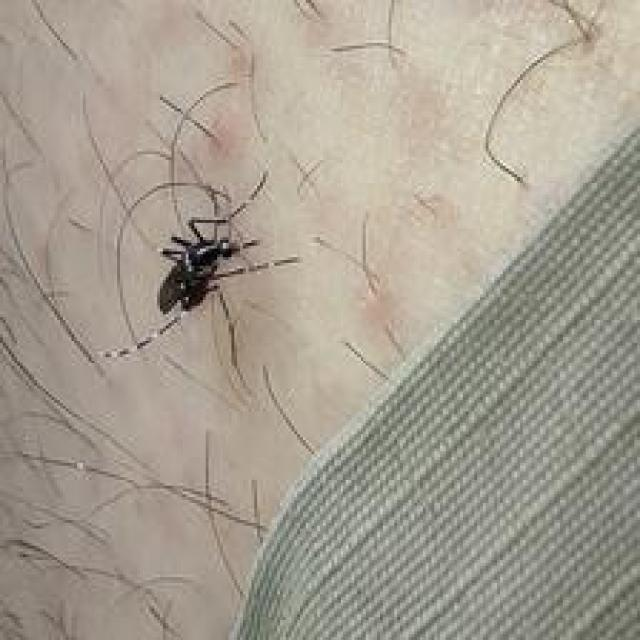Aedes albopictus: (154, 210, 300, 319)
